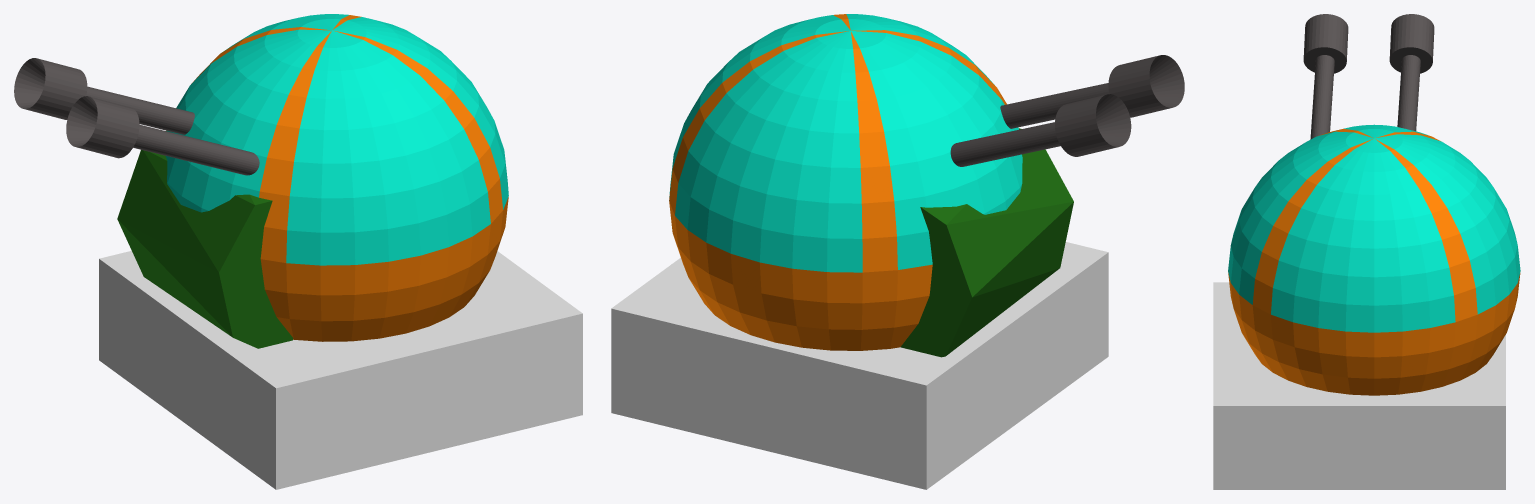
The model's file is gun_turrent.glb.
The picture shows the model from 3 angles, left to right: view 1: azimuth 30°, elevation 25°; view 2: azimuth 150°, elevation 25°; view 3: azimuth 270°, elevation 25°; orthographic projection. The views are drawn at different scales.
Parts seen in each view (by area): view 1: Object_6, Object_2, Object_3, Object_4, Object_5; view 2: Object_6, Object_2, Object_3, Object_4, Object_5; view 3: Object_2, Object_6, Object_3, Object_5.
Boxes of the visible parts, left/top/right/bottom form: Object_6: left=99, top=251, right=582, bottom=489; Object_2: left=165, top=14, right=508, bottom=265; Object_3: left=191, top=15, right=508, bottom=341; Object_4: left=117, top=130, right=293, bottom=348; Object_5: left=14, top=58, right=259, bottom=175; Object_6: left=611, top=242, right=1108, bottom=489; Object_2: left=669, top=14, right=1022, bottom=272; Object_3: left=669, top=14, right=1006, bottom=350; Object_4: left=900, top=128, right=1073, bottom=357; Object_5: left=950, top=55, right=1184, bottom=166; Object_2: left=1228, top=124, right=1520, bottom=332; Object_6: left=1213, top=282, right=1505, bottom=489; Object_3: left=1228, top=128, right=1520, bottom=395; Object_5: left=1303, top=14, right=1434, bottom=139.
Bounding box in the file's own units: 2.88 × 2.31 × 2.1.
